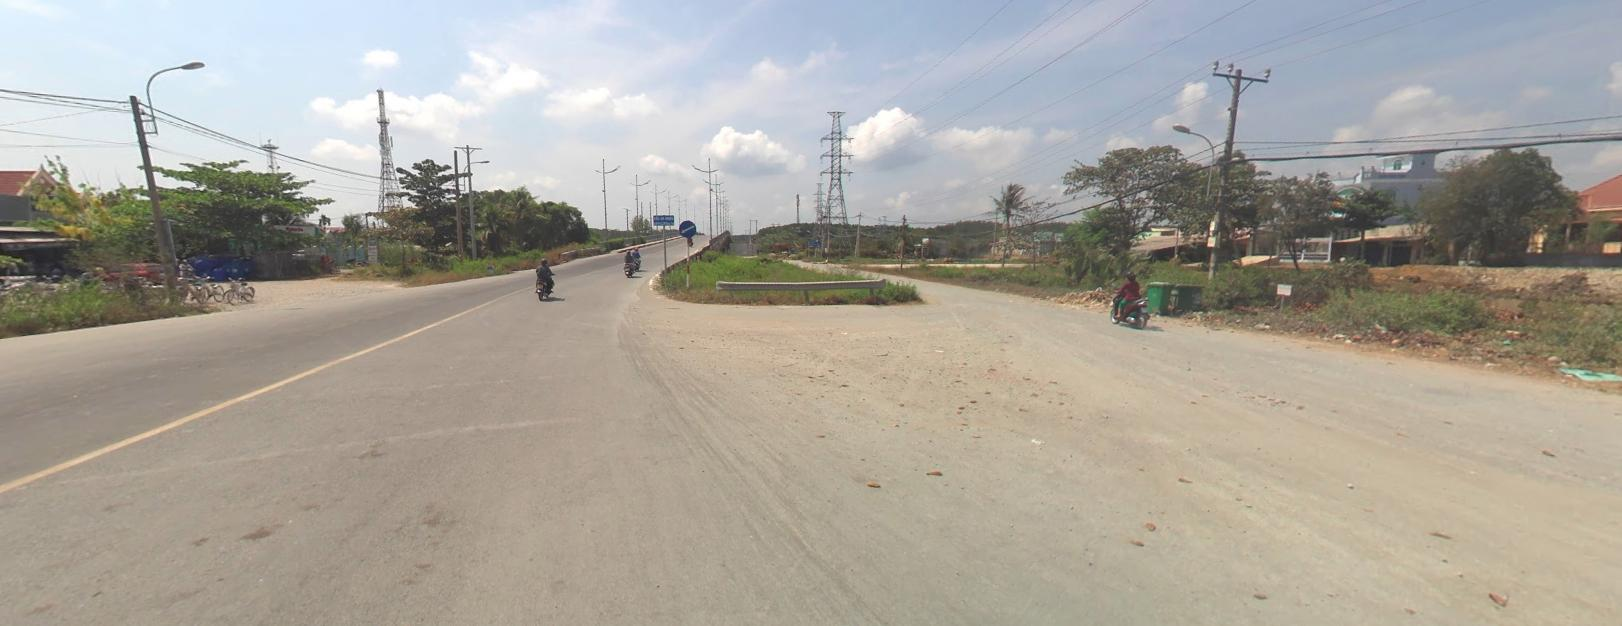Hieu lenh: (679, 220, 695, 236), (679, 219, 695, 235)
